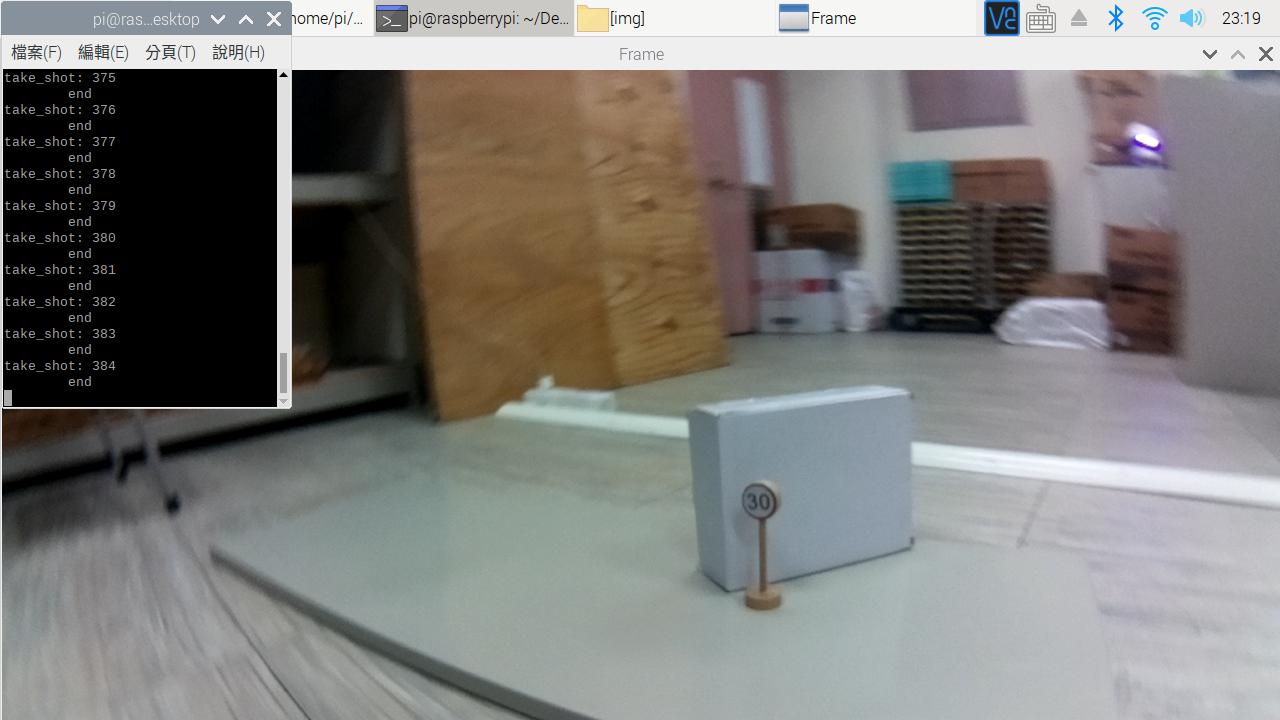Speed30: (727, 474, 800, 531)
